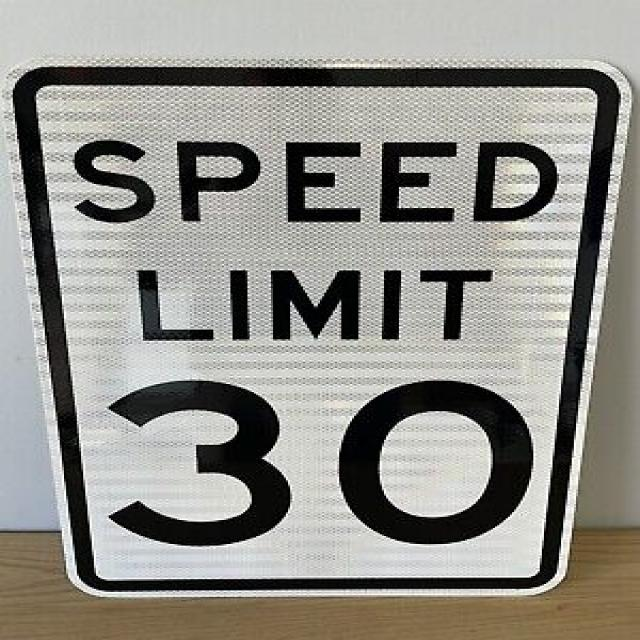Speed Limit Signs: (6, 59, 632, 598)
